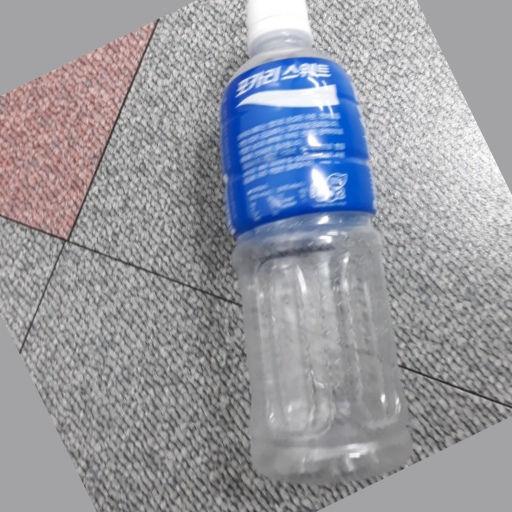Plastic_0: (212, 1, 411, 479)
